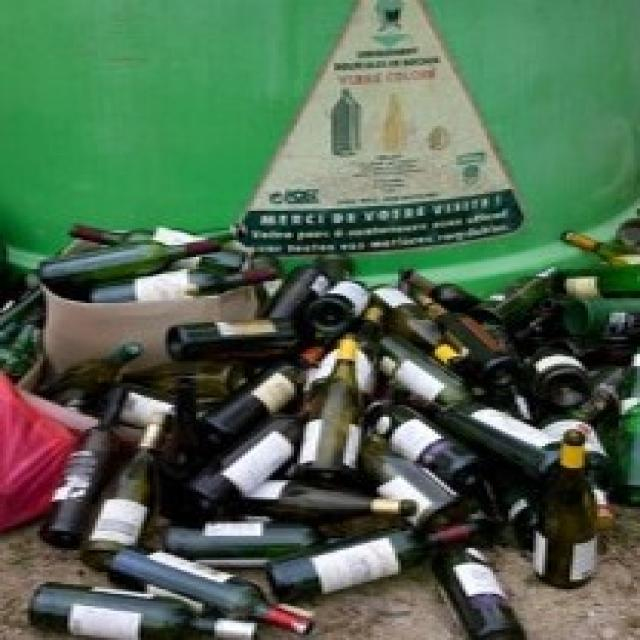electronic: (9, 218, 640, 640)
